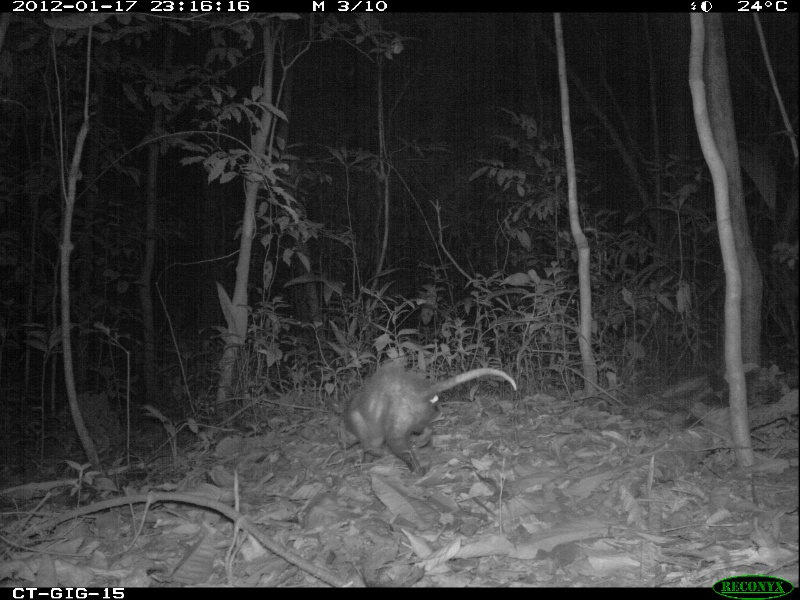opossum: (331, 341, 522, 483)
